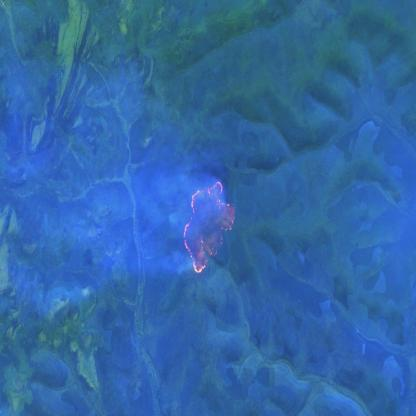fire: (182, 179, 238, 277)
